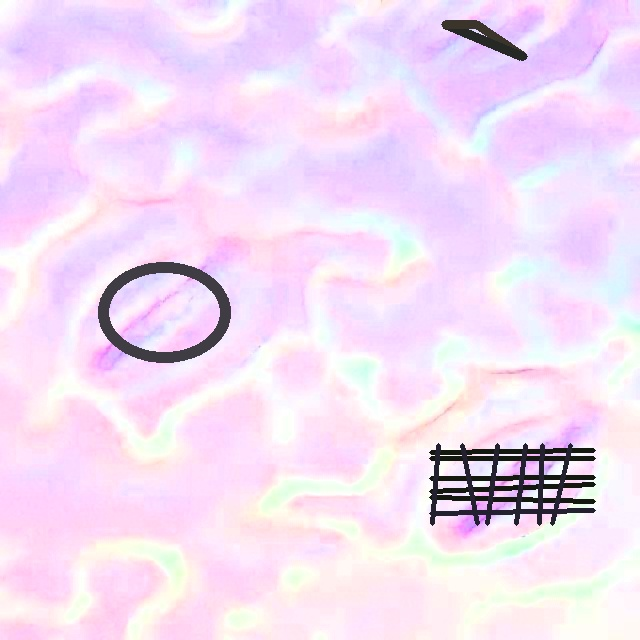open: (429, 443, 595, 525), (98, 261, 230, 363), (441, 20, 527, 60)
